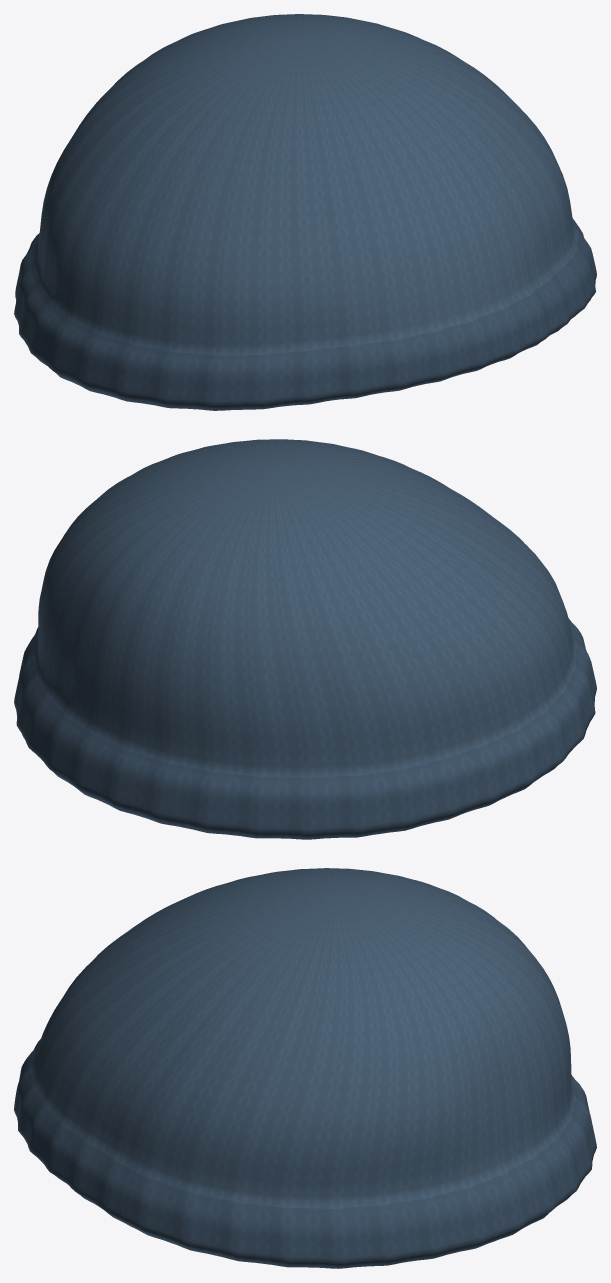
File: beanie-masculine-flow.glb
The picture shows the model from 3 angles, top to bottom: view 1: azimuth 30°, elevation 25°; view 2: azimuth 150°, elevation 25°; view 3: azimuth 270°, elevation 25°; orthographic projection. The views are drawn at different scales.
Parts seen in each view (by area): view 1: Beanie / fitted knit; view 2: Beanie / fitted knit; view 3: Beanie / fitted knit.
Part boxes in pixels (left/top/right/bottom): Beanie / fitted knit: left=14, top=14, right=596, bottom=410; Beanie / fitted knit: left=14, top=439, right=596, bottom=839; Beanie / fitted knit: left=14, top=868, right=596, bottom=1268.
Size of the model in its own units: 0.8349 by 0.4059 by 0.8097.
2 materials, 2 textured.
